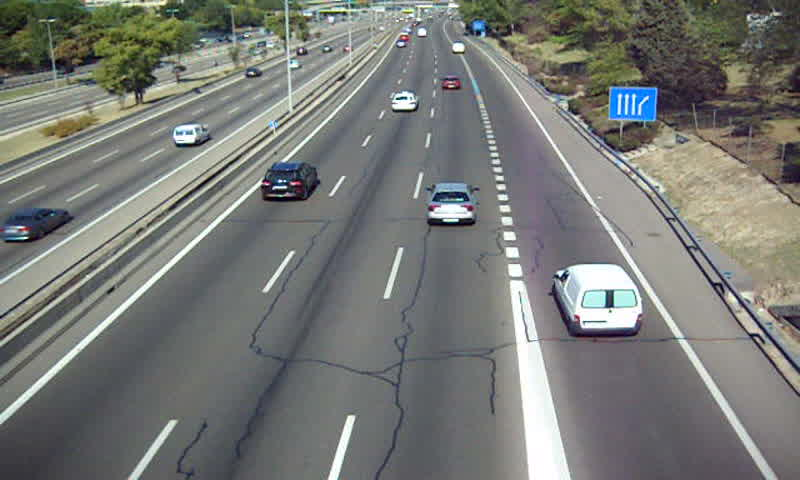car: (260, 161, 315, 201), (425, 184, 477, 226), (391, 92, 418, 111), (442, 76, 461, 92)
van: (552, 264, 643, 338)
